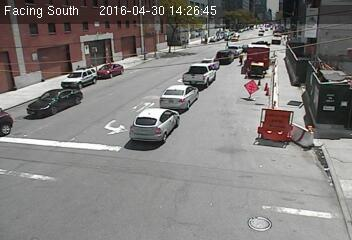neg: (141, 55, 151, 68)
pos: (235, 50, 248, 68)
